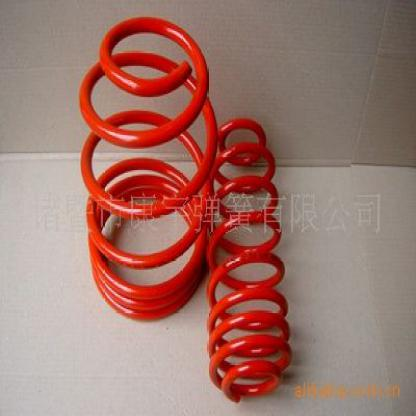FOD: (80, 14, 216, 323), (206, 110, 294, 407)
